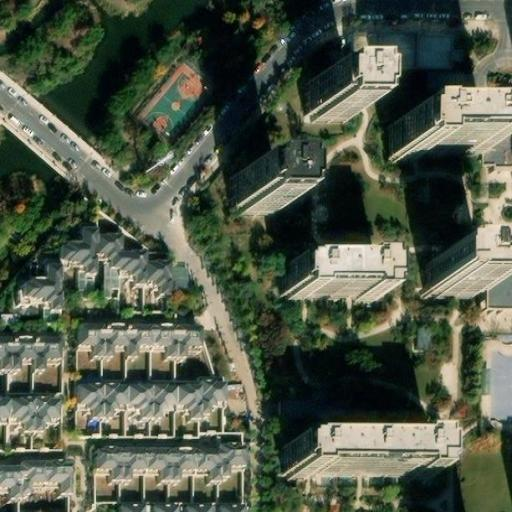building: (60, 226, 169, 292), (284, 435, 430, 475), (99, 444, 245, 480), (80, 383, 224, 419), (80, 322, 205, 356), (362, 30, 460, 65), (401, 121, 496, 157), (297, 258, 388, 294), (0, 458, 72, 500), (434, 257, 496, 294), (0, 396, 61, 432), (0, 337, 60, 371), (482, 352, 511, 420), (22, 262, 62, 307), (310, 81, 355, 120), (235, 175, 280, 212), (486, 251, 512, 309), (119, 502, 248, 512), (414, 323, 431, 349)
